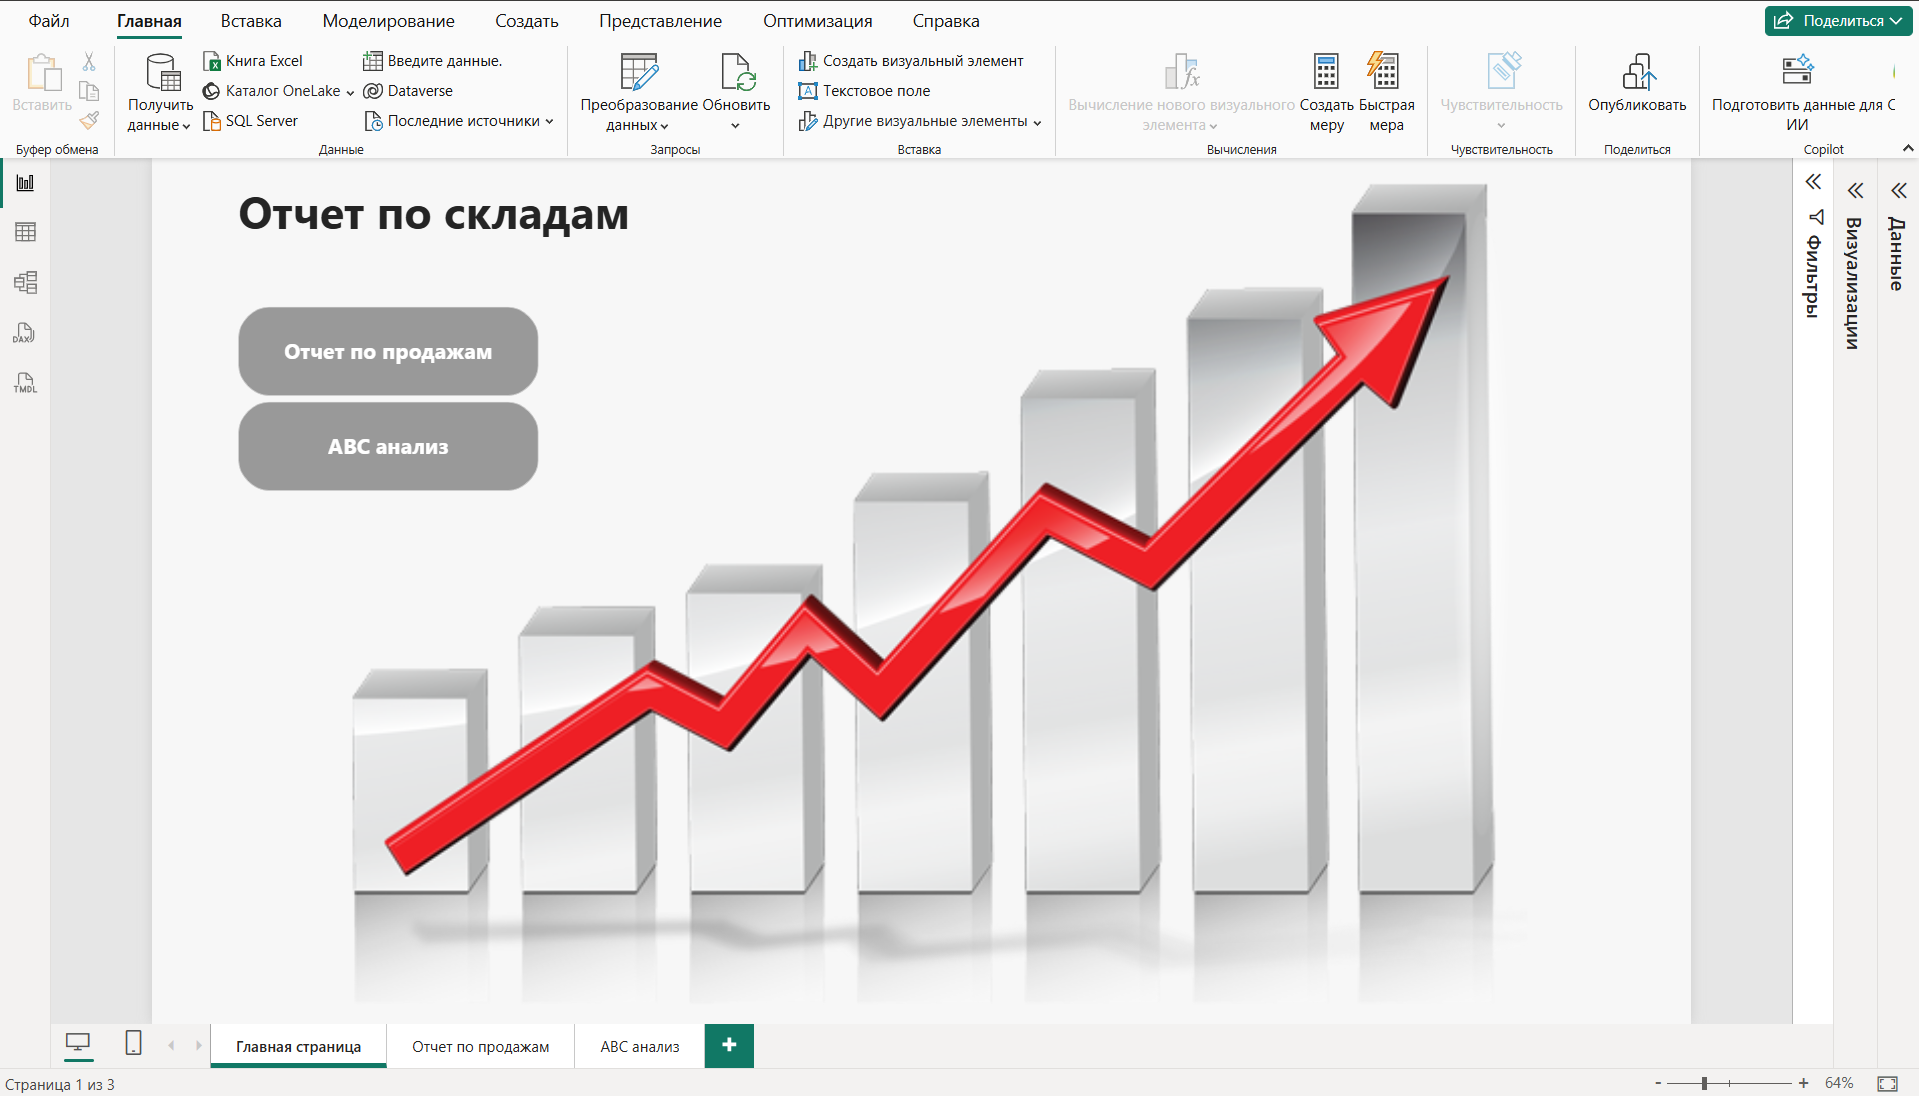

The dashboard page shown, as its layout file describes it:
{"tool":"powerbi","page":{"name":"Главная страница","canvas":[1920,1080],"ordinal":0},"visuals":[{"type":"image","box":[0,0,1920.4,1079.7],"z":0},{"type":"actionButton","box":[107,185.2,374.6,111.1],"z":1000},{"type":"actionButton","box":[107,304.6,374.6,111.1],"z":2000},{"type":"textbox","box":[107,28.8,1018.9,86.4],"z":3000}]}

Visuals, with their boxes on the page's 1920x1080 design canvas (x1, y1, x2, y2). These are canvas units, not pixel positions in the 1919x1096 screenshot, which may show the page scaled, cropped or inside an application window:
image: rect(0, 0, 1920, 1080)
actionButton: rect(107, 185, 482, 296)
actionButton: rect(107, 305, 482, 416)
textbox: rect(107, 29, 1126, 115)
